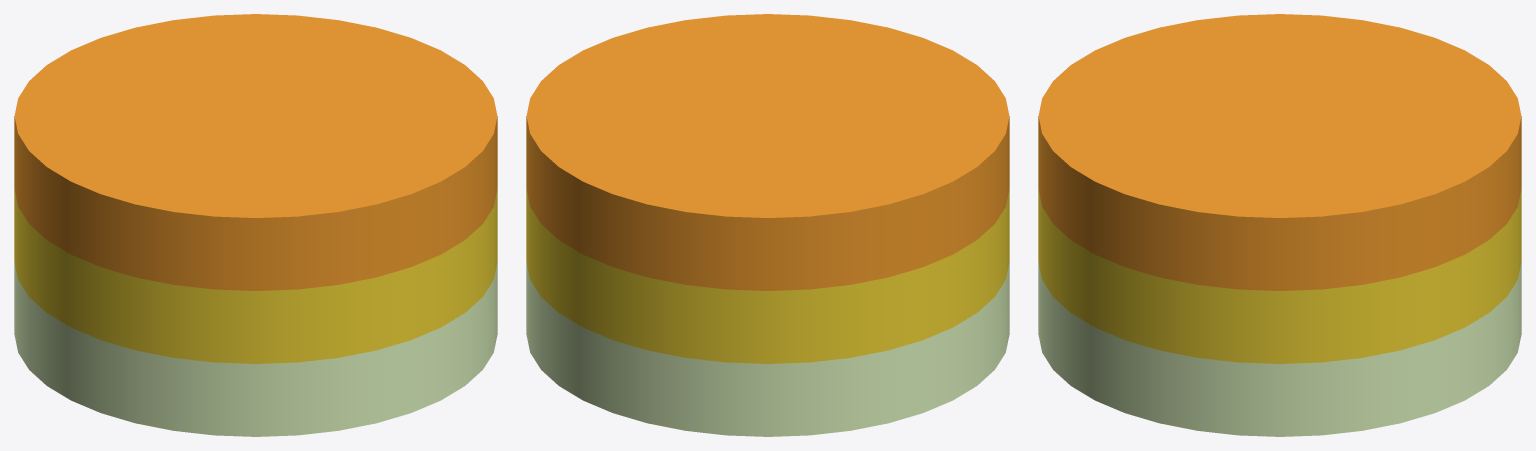
Rendered from x_yuanzhu1.obj.
3 views of the same model, side by side, from view 1: azimuth 30°, elevation 25°; view 2: azimuth 150°, elevation 25°; view 3: azimuth 270°, elevation 25° (orthographic).
Visible parts, largest first — view 1: x_yuanzhu; view 2: x_yuanzhu; view 3: x_yuanzhu.
Part boxes in pixels (<box>): x_yuanzhu: <box>14,14,497,436</box>; x_yuanzhu: <box>526,14,1009,436</box>; x_yuanzhu: <box>1038,14,1521,436</box>.
Size of the model in its own units: 10 by 5 by 10.
